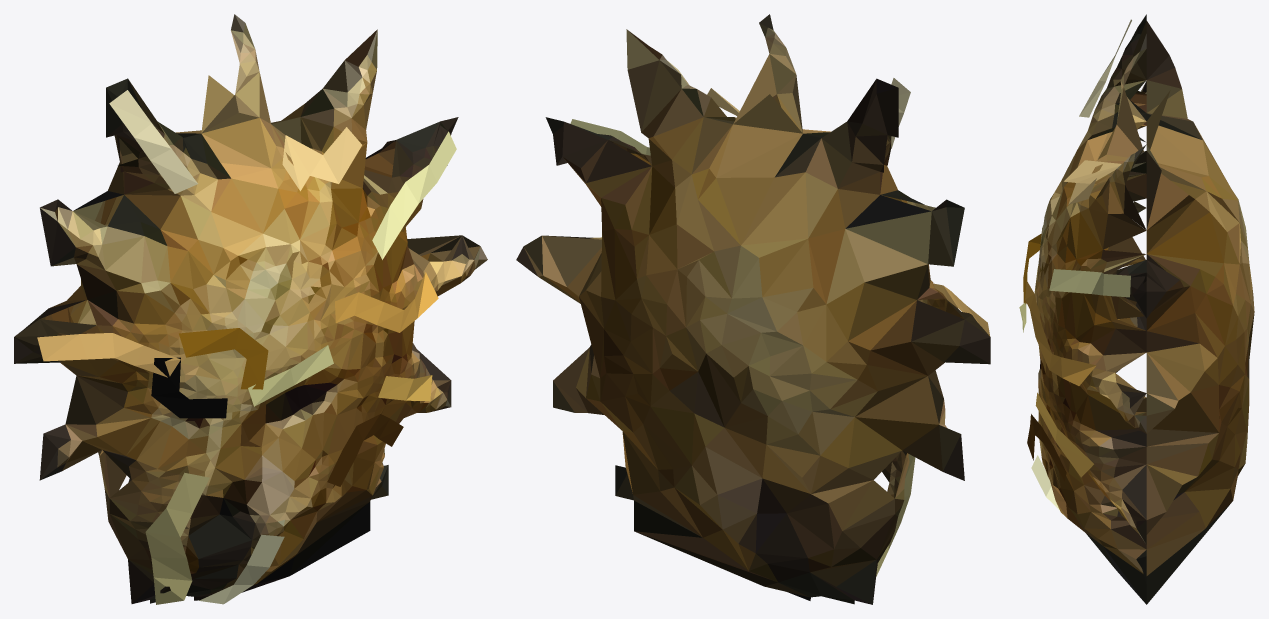
3 renders of one model, left to right at view 1: azimuth 30°, elevation 25°; view 2: azimuth 150°, elevation 25°; view 3: azimuth 270°, elevation 25°, orthographic. The views are drawn at different scales.
Visible parts, largest first — view 1: object 2, detail; view 2: object 2, detail; view 3: object 2, detail.
Part boxes in pixels (left/top/right/bottom): object 2: left=14, top=14, right=487, bottom=603; detail: left=37, top=90, right=456, bottom=604; object 2: left=516, top=14, right=990, bottom=604; detail: left=570, top=78, right=990, bottom=576; object 2: left=1034, top=14, right=1254, bottom=604; detail: left=1019, top=19, right=1131, bottom=510.
Size of the model in its own units: 129 by 150 by 59.7.
